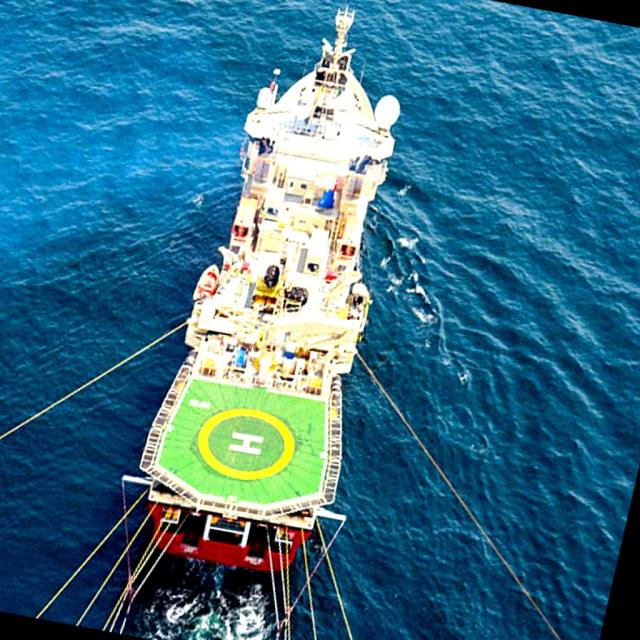helipad: (194, 405, 298, 482)
